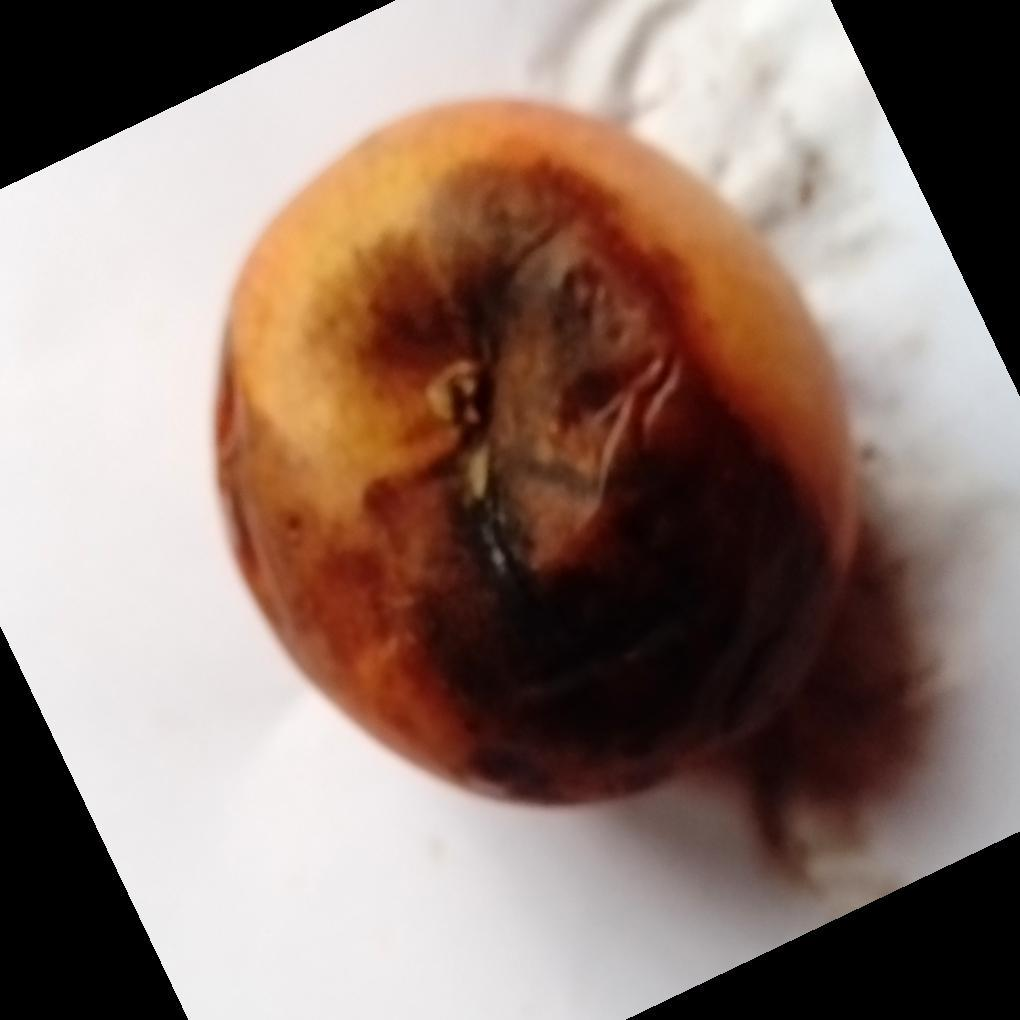FreshOrange: (211, 97, 921, 860)
